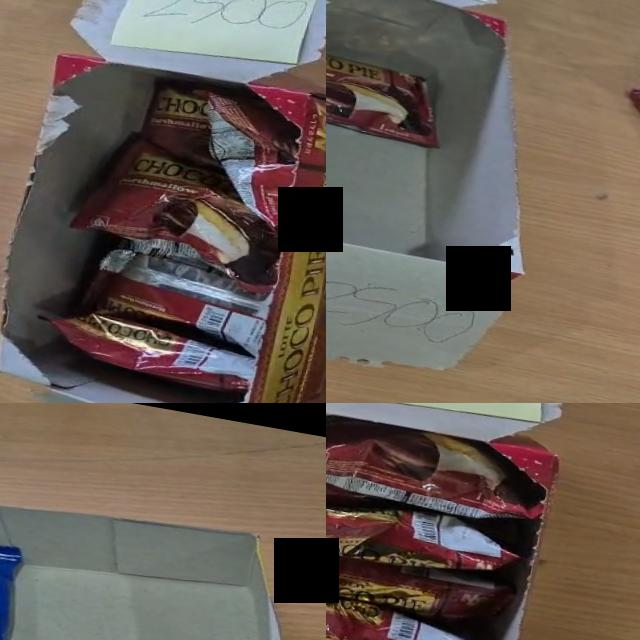Chocopie: (74, 139, 278, 284), (326, 408, 553, 529), (326, 486, 524, 587), (326, 531, 517, 631), (89, 249, 269, 354), (55, 312, 254, 388), (326, 43, 448, 147), (208, 92, 298, 224), (326, 586, 508, 640), (144, 81, 207, 160)
